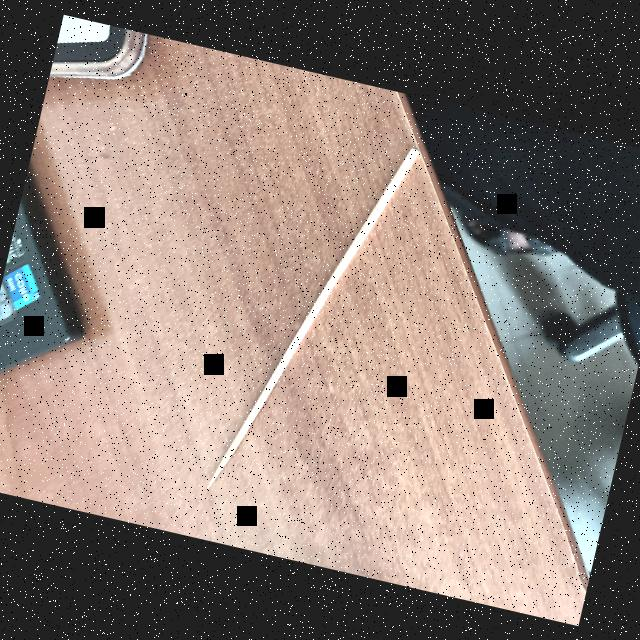stick: (185, 104, 446, 532)
